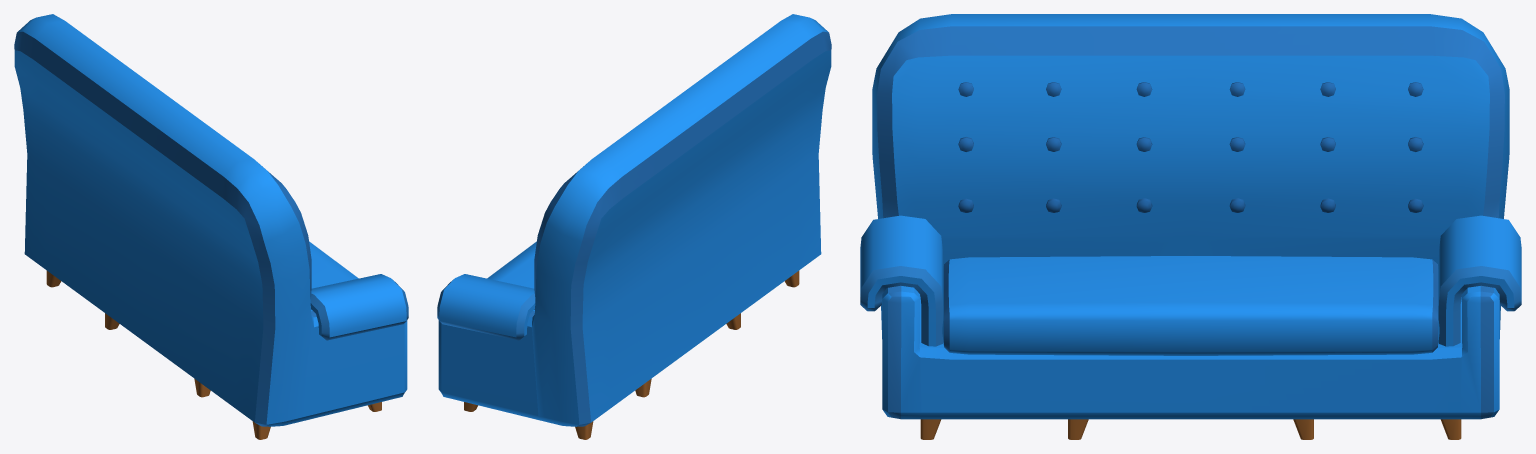
Rendered from Sofa_2_C.glb.
The picture shows the model from 3 angles, left to right: view 1: azimuth 30°, elevation 25°; view 2: azimuth 150°, elevation 25°; view 3: azimuth 270°, elevation 25°; orthographic projection. The views are drawn at different scales.
Parts seen in each view (by area): view 1: Sofa_2_C; view 2: Sofa_2_C; view 3: Sofa_2_C.
Boxes of the visible parts, left/top/right/bottom form: Sofa_2_C: left=14, top=14, right=408, bottom=439; Sofa_2_C: left=437, top=14, right=831, bottom=439; Sofa_2_C: left=860, top=14, right=1521, bottom=439.
Size of the model in its own units: 0.9247 by 1.49 by 2.59.
Materials: 1 (1 with a texture image).
